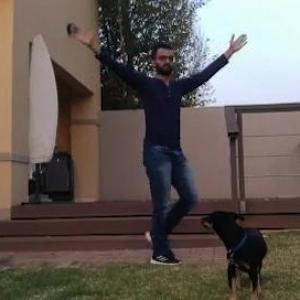takeoff: (70, 24, 252, 272)
